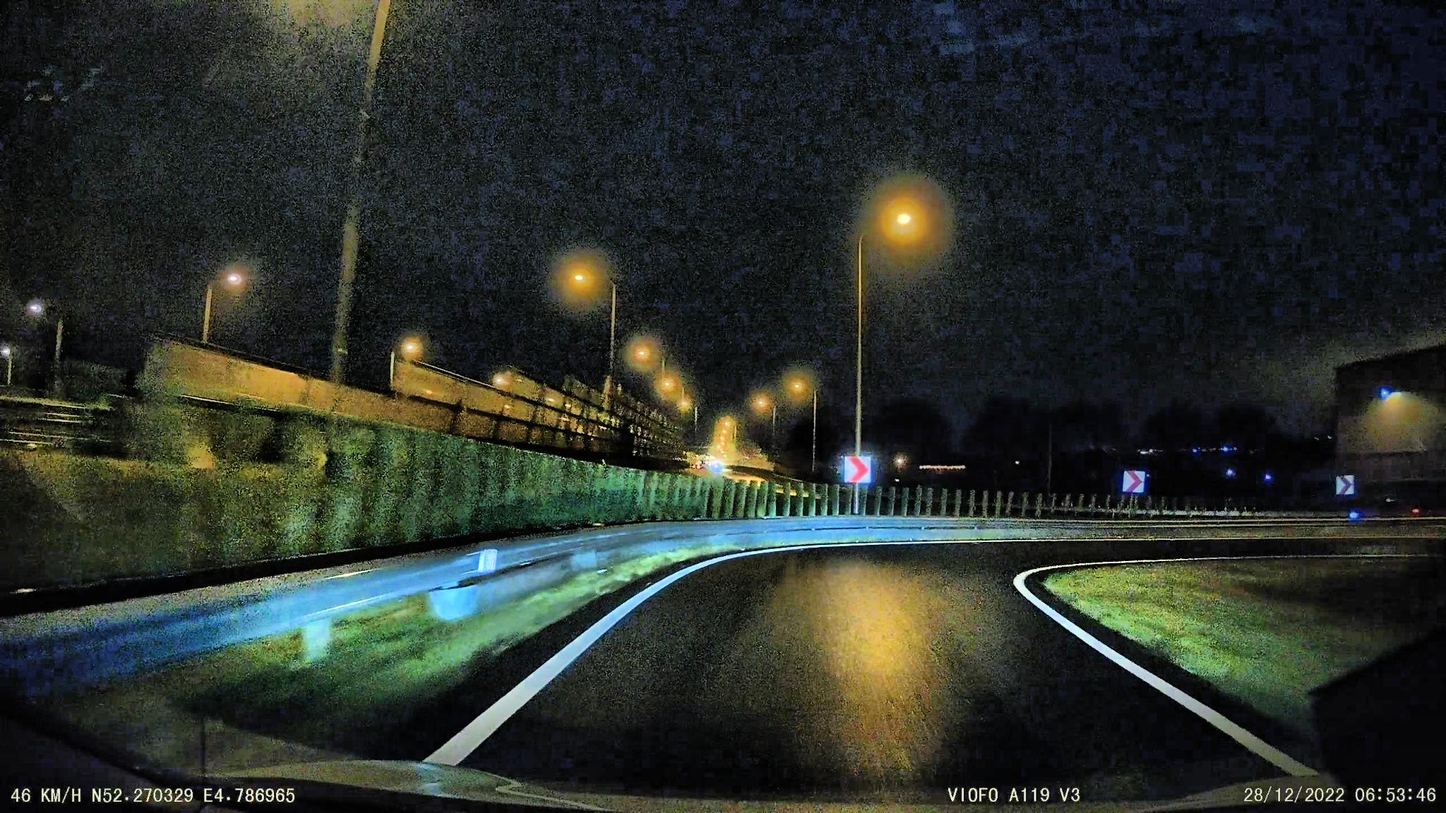Roads: (424, 538, 1415, 784)
